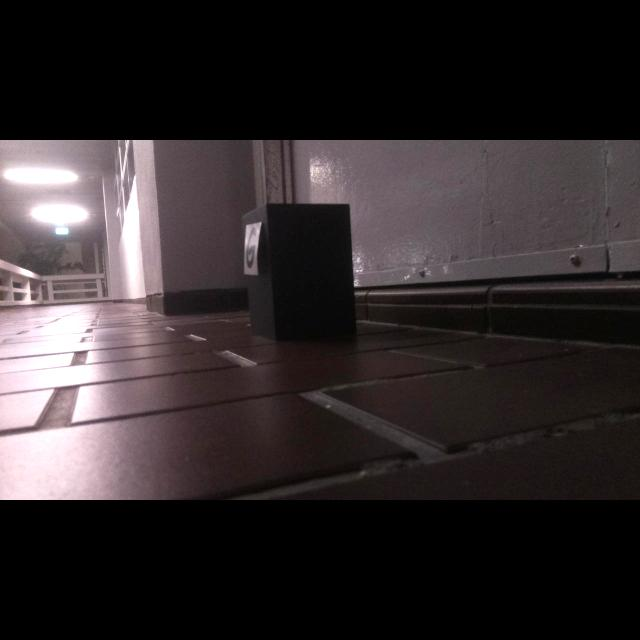G: (246, 227, 257, 267)
